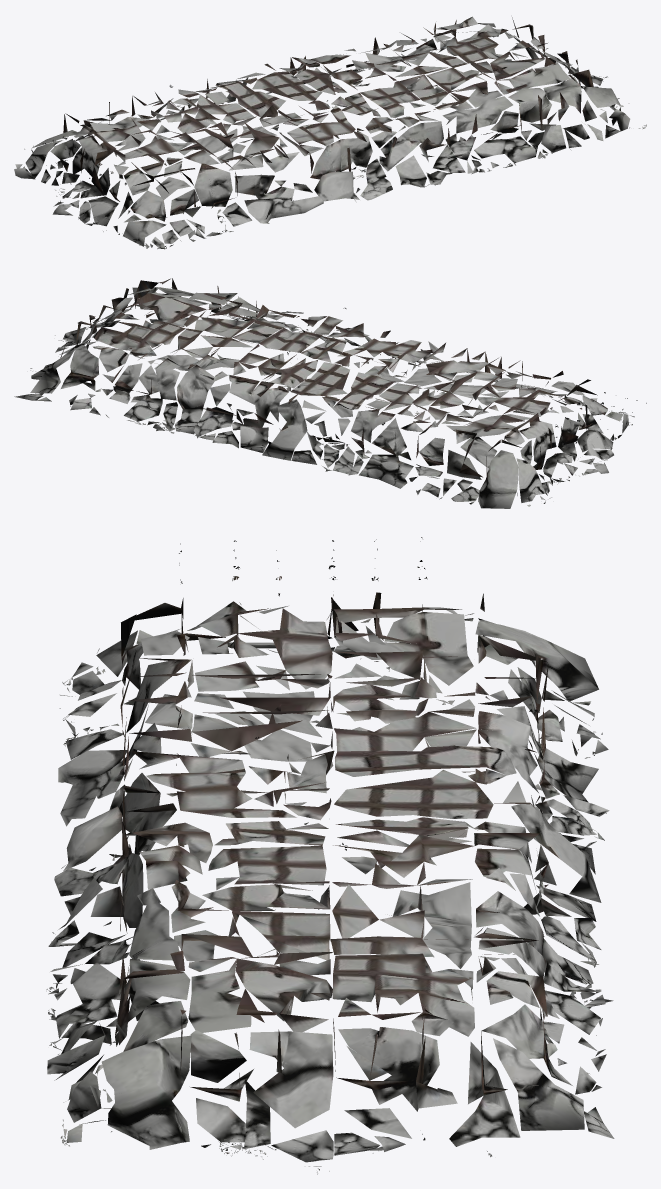
File: rubble.glb
3 views of the same model, one above another, from view 1: azimuth 30°, elevation 25°; view 2: azimuth 150°, elevation 25°; view 3: azimuth 270°, elevation 25° (orthographic). The views are drawn at different scales.
Visible parts, largest first — view 1: Mesh; view 2: Mesh; view 3: Mesh.
Boxes of the visible parts, left/top/right/bottom form: Mesh: left=14, top=16, right=646, bottom=249; Mesh: left=14, top=278, right=646, bottom=508; Mesh: left=46, top=537, right=614, bottom=1174.
Size of the model in its own units: 2.88 by 0.4373 by 1.27.
Materials: 1 (1 with a texture image).
